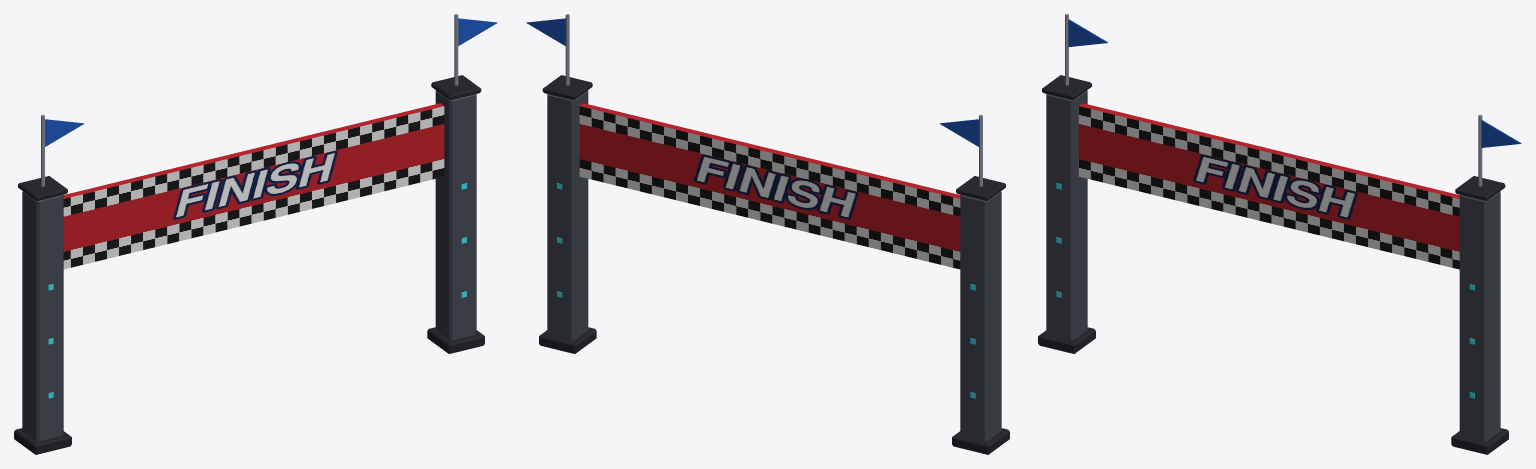
The model's file is gate_finish.glb.
3 renders of one model, left to right at view 1: azimuth 30°, elevation 25°; view 2: azimuth 150°, elevation 25°; view 3: azimuth 330°, elevation 25°, orthographic.
Parts seen in each view (by area): view 1: gate_finish_gate_finish_banner, gate_finish_Main; view 2: gate_finish_gate_finish_banner, gate_finish_Main; view 3: gate_finish_gate_finish_banner, gate_finish_Main.
Part boxes in pixels (x1,y1,x2,y2): gate_finish_gate_finish_banner: [63, 103, 444, 269]; gate_finish_Main: [14, 14, 497, 454]; gate_finish_gate_finish_banner: [579, 103, 960, 269]; gate_finish_Main: [526, 14, 1009, 454]; gate_finish_gate_finish_banner: [1078, 103, 1459, 269]; gate_finish_Main: [1038, 14, 1521, 454].
Size of the model in its own units: 27.5 by 18.2 by 2.2.
2 materials, 2 textured.
